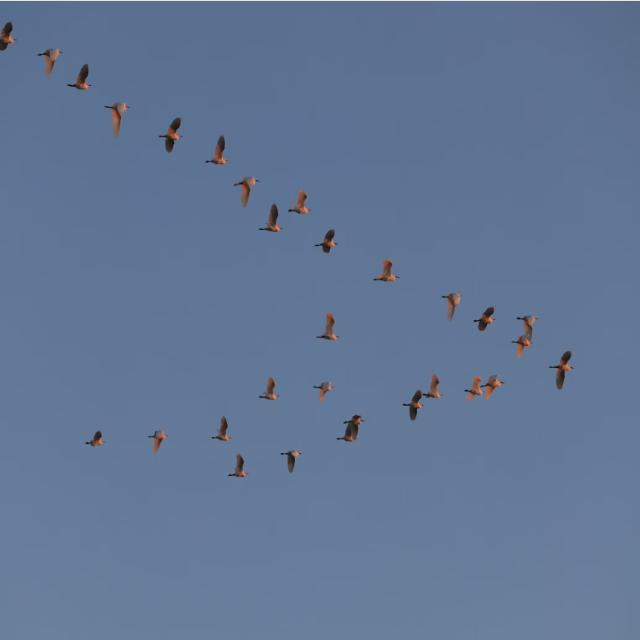bird: (546, 342, 586, 393), (102, 93, 130, 141), (156, 117, 188, 155), (436, 283, 464, 325), (372, 253, 404, 289), (203, 132, 230, 174), (254, 368, 281, 409), (314, 310, 343, 348), (231, 172, 261, 208), (260, 198, 286, 239), (32, 46, 65, 78), (470, 301, 500, 336), (278, 439, 304, 478), (65, 64, 96, 96), (310, 370, 336, 406), (484, 367, 508, 405), (312, 228, 342, 258), (402, 388, 427, 424), (208, 412, 233, 448), (0, 19, 27, 52), (287, 185, 313, 218), (506, 334, 536, 360), (464, 370, 483, 410), (144, 427, 169, 457), (424, 367, 445, 402), (228, 452, 249, 485), (514, 310, 544, 332), (83, 426, 110, 450), (335, 428, 360, 448), (341, 412, 371, 428)
